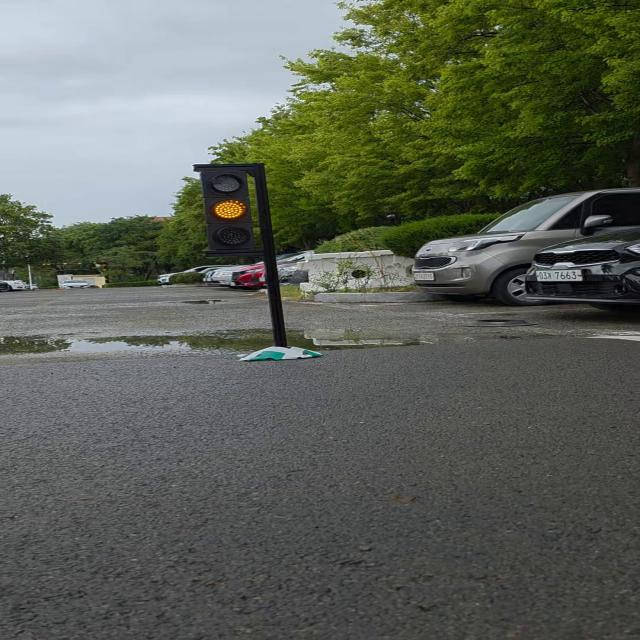yellow: (194, 168, 267, 259)
